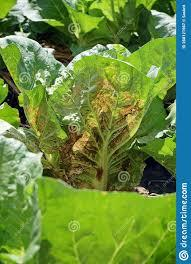Bok-Choy-Diseased: (39, 56, 156, 199)
